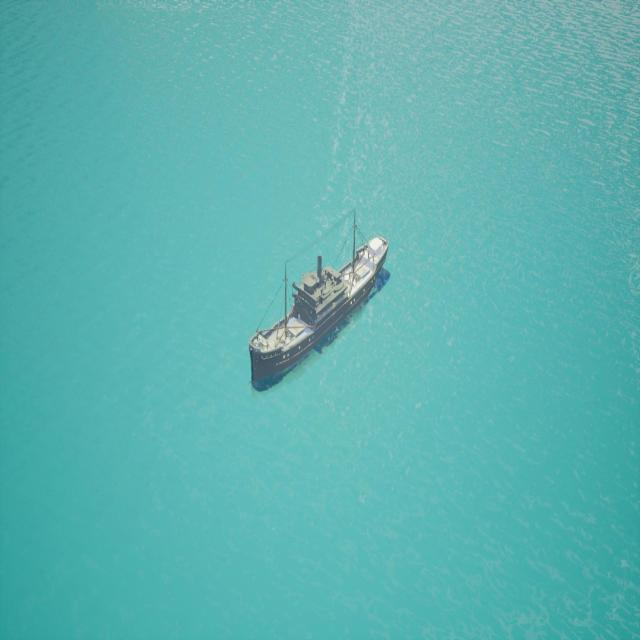fishing ship: (248, 235, 392, 391)
